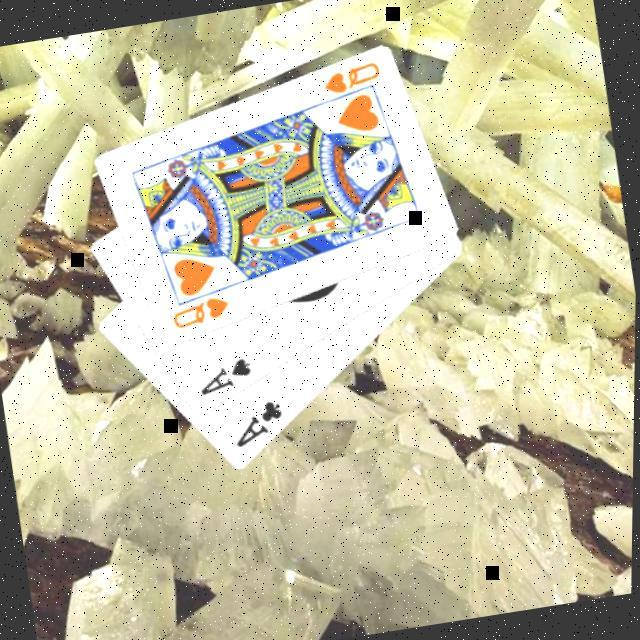AC: (230, 398, 294, 454)
AS: (195, 355, 261, 402)
QH: (315, 60, 390, 111), (169, 294, 237, 336)
